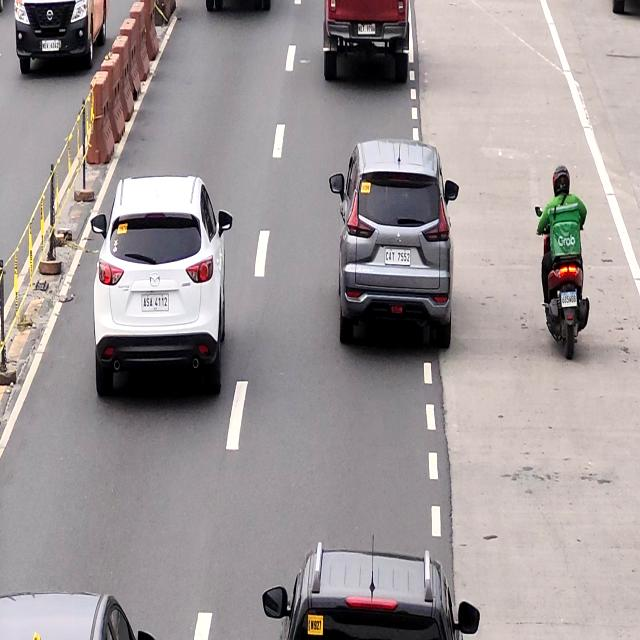Car: (92, 177, 217, 397), (335, 142, 455, 340), (278, 544, 465, 640), (322, 0, 412, 84), (0, 583, 125, 640)
License-Plate: (141, 292, 169, 312), (386, 248, 412, 267), (559, 290, 578, 308), (357, 24, 378, 37)
Motorcycle: (536, 165, 589, 360)
